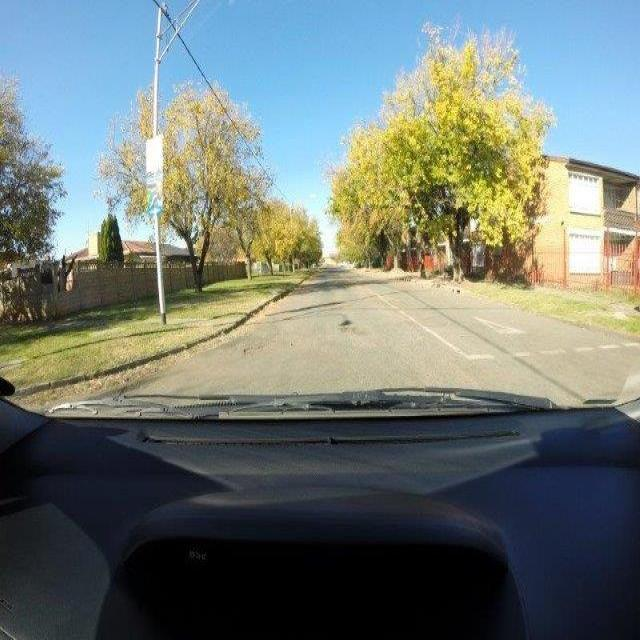lubang: (336, 317, 370, 339), (240, 337, 274, 357)
